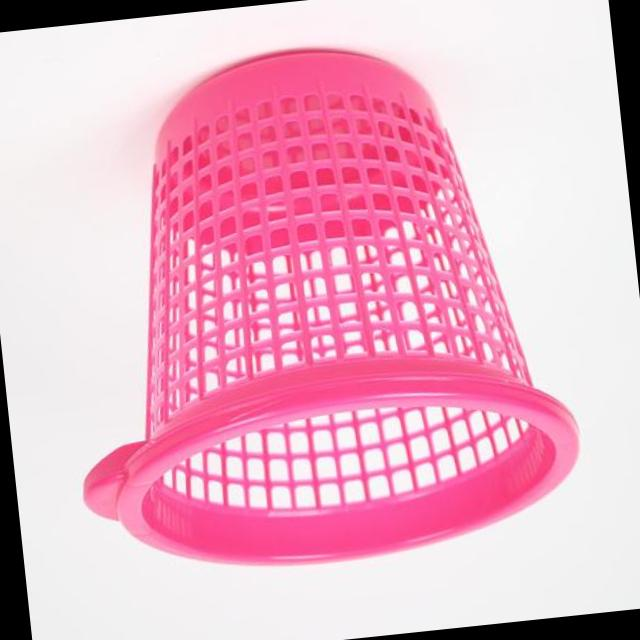dustbin: (28, 16, 600, 595)
